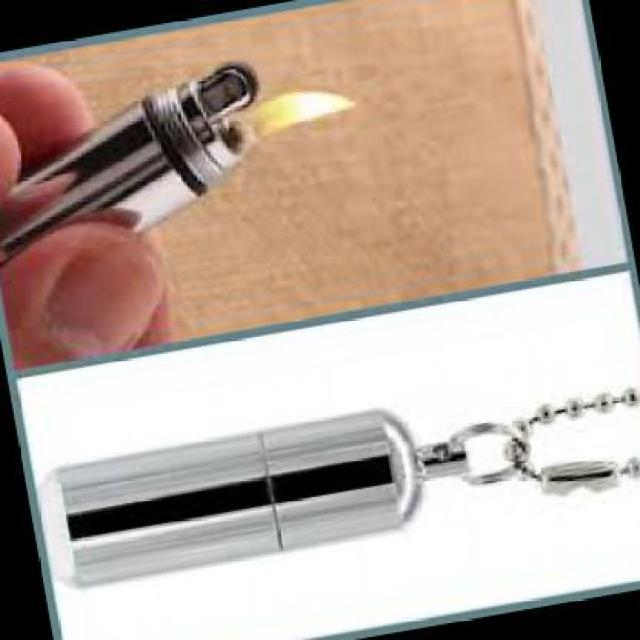Fire: (249, 87, 356, 144)
